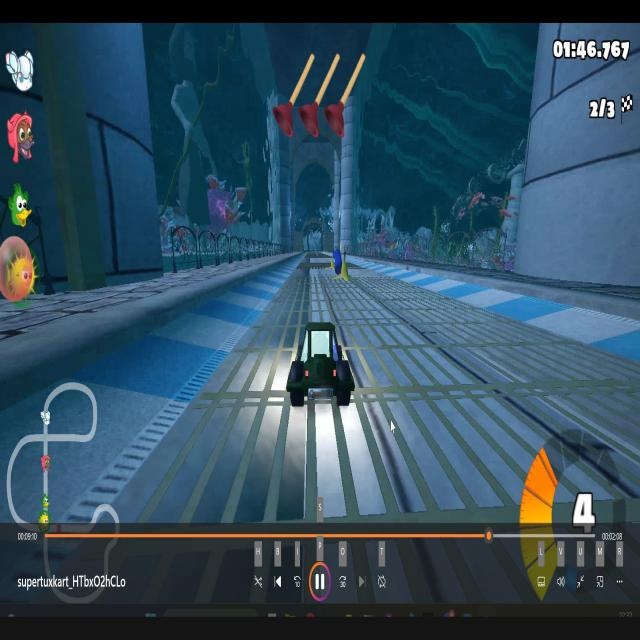player_kart: (282, 315, 355, 415)
track: (359, 311, 514, 521), (516, 340, 640, 525), (183, 412, 359, 520), (244, 338, 282, 415), (333, 287, 428, 308), (304, 245, 332, 313), (290, 269, 303, 315), (361, 270, 386, 288)
